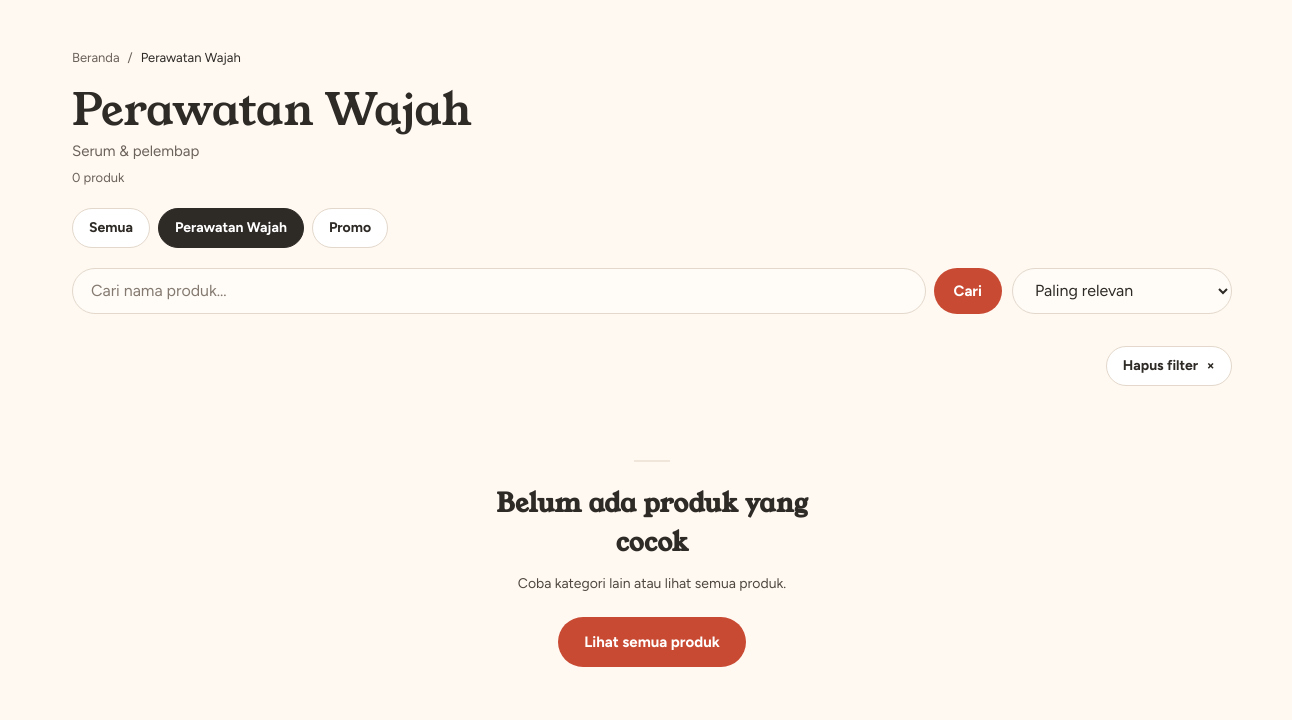
Test: CatalogRoute › writes a sort change into the URL and drops the default
The image size is (1292, 720).
Step 1. Select "Nama A–Z" in the dropdown → (1122, 291), box top-left (1012, 268), bottom-right (1232, 314)
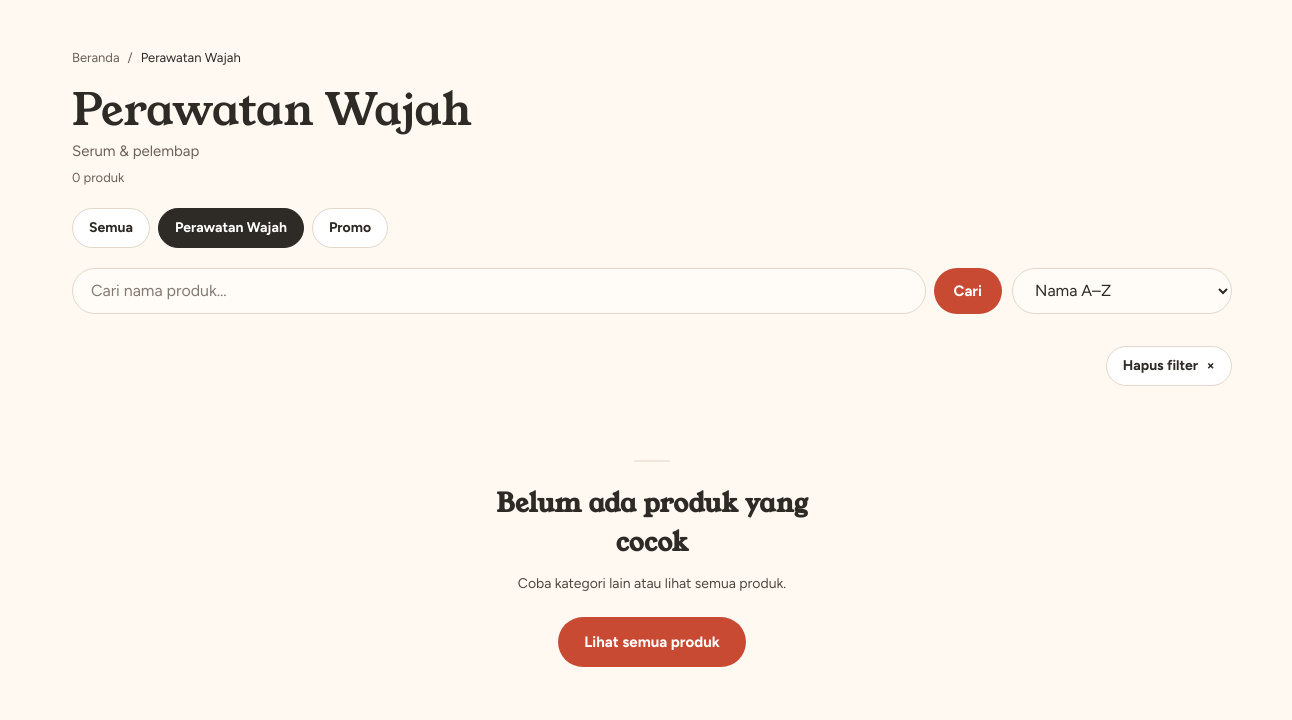
Step 2. Select "Paling relevan" in the dropdown → (1122, 291), box top-left (1012, 268), bottom-right (1232, 314)
(page scrolled)
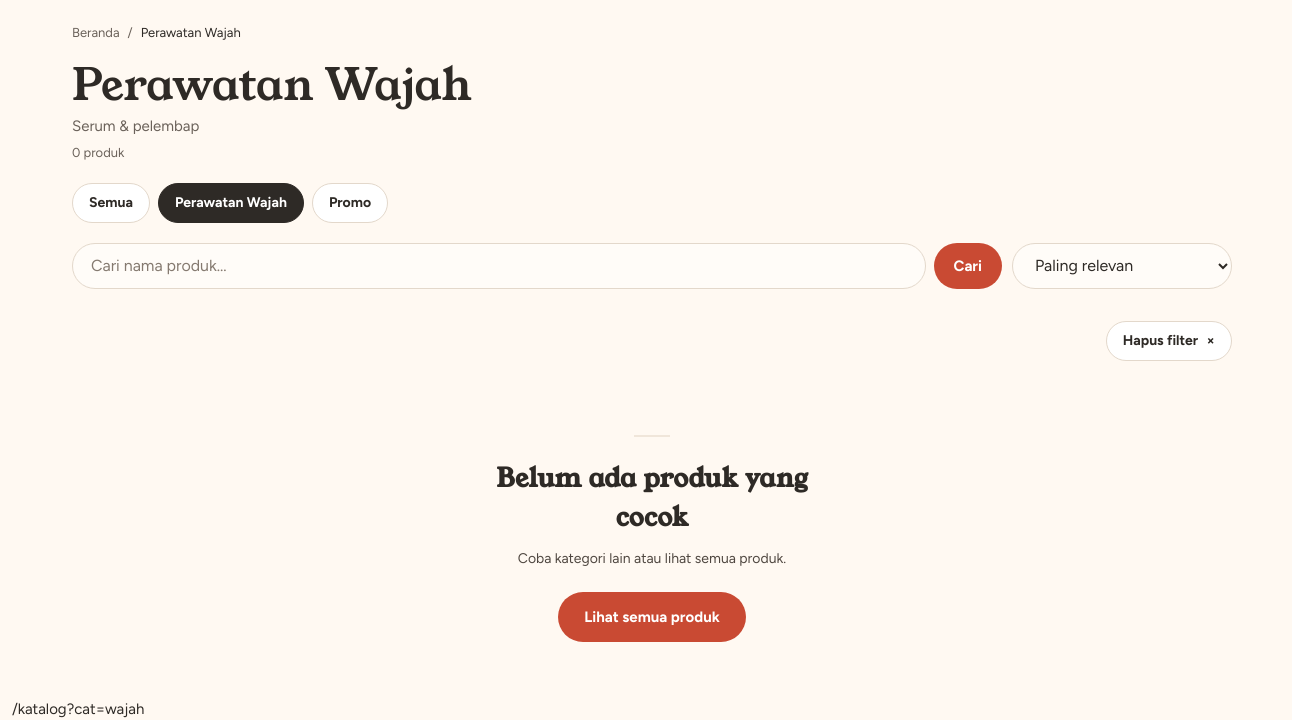
expect the text with test id "where" reads "/katalog?cat=wajah": met, box top-left (12, 700), bottom-right (144, 718)
